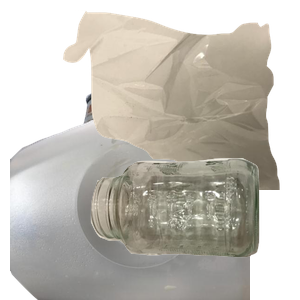glass: (88, 156, 300, 300)
metal: (60, 82, 300, 262)
plastic: (10, 120, 250, 300)
trash: (61, 10, 300, 190)
